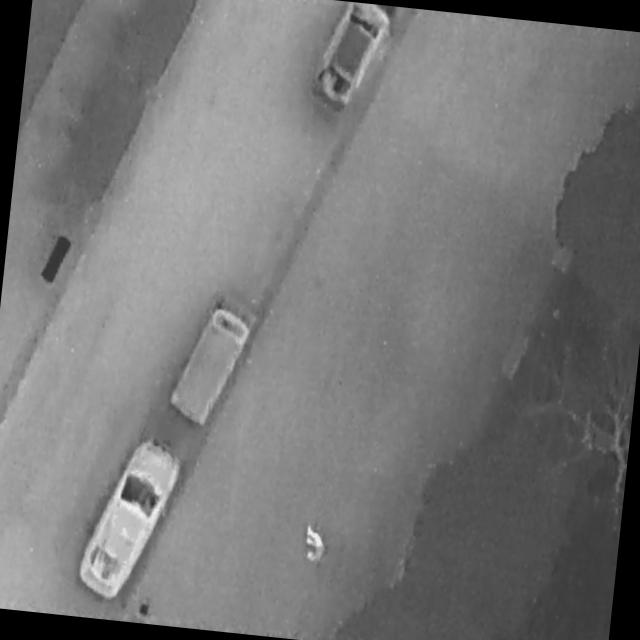person: (302, 523, 329, 566)
